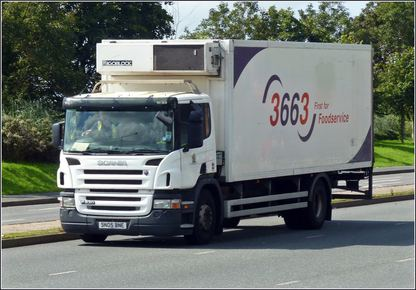truck: (50, 36, 380, 245)
